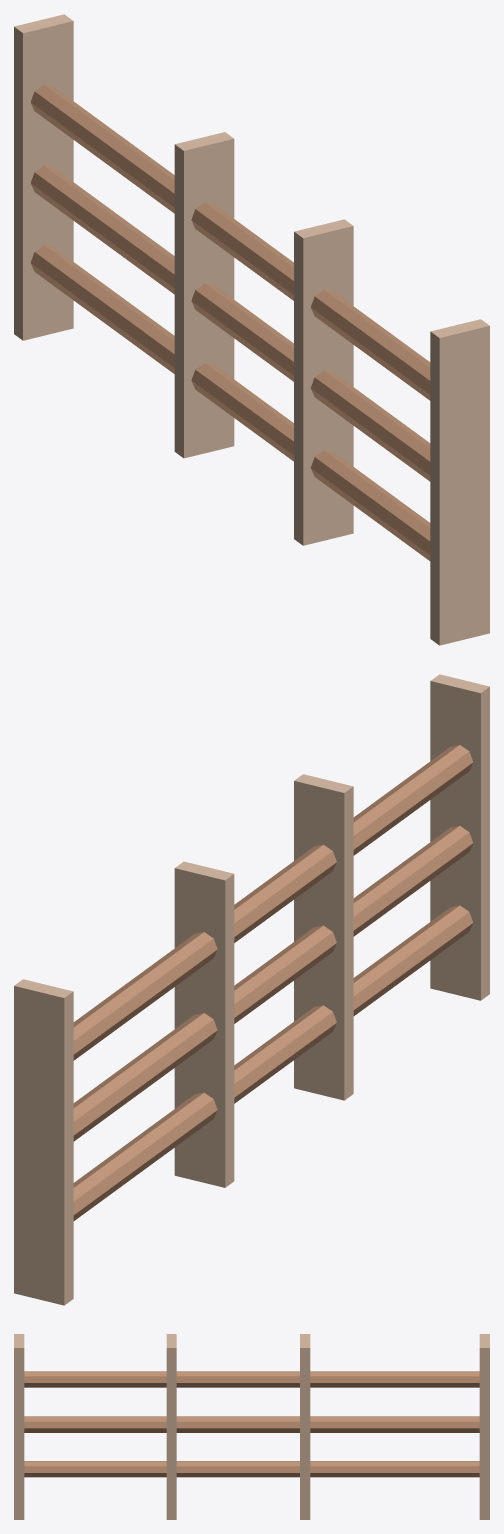
Rendered from Fence.fbx.
The picture shows the model from 3 angles, top to bottom: view 1: azimuth 30°, elevation 25°; view 2: azimuth 150°, elevation 25°; view 3: azimuth 270°, elevation 25°; orthographic projection. The views are drawn at different scales.
Parts seen in each view (by area): view 1: pCube1, pCube3, pCube2, pCube4, pCylinder1, pCylinder2, pCylinder3; view 2: pCube4, pCube3, pCube2, pCube1, pCylinder2, pCylinder1, pCylinder3; view 3: pCylinder1, pCylinder2, pCylinder3, pCube1, pCube2, pCube3, pCube4.
Part boxes in pixels (box(x1,y1,x2,y2)): pCube1: box(430, 319, 489, 645); pCube3: box(174, 132, 234, 458); pCube2: box(294, 219, 353, 545); pCube4: box(14, 14, 73, 340); pCylinder1: box(30, 85, 430, 400); pCylinder2: box(30, 166, 430, 481); pCylinder3: box(30, 245, 430, 560); pCube4: box(14, 979, 73, 1305); pCube3: box(174, 861, 234, 1187); pCube2: box(294, 774, 353, 1100); pCube1: box(430, 674, 489, 1000); pCylinder2: box(73, 826, 473, 1141); pCylinder1: box(73, 745, 473, 1060); pCylinder3: box(73, 905, 473, 1220); pCylinder1: box(24, 1371, 479, 1387); pCylinder2: box(24, 1416, 479, 1432); pCylinder3: box(24, 1461, 479, 1477); pCube1: box(14, 1334, 24, 1519); pCube2: box(166, 1334, 176, 1519); pCube3: box(300, 1334, 310, 1519); pCube4: box(479, 1334, 489, 1519).
Size of the model in its own units: 1.05 by 6.13 by 15.38.
